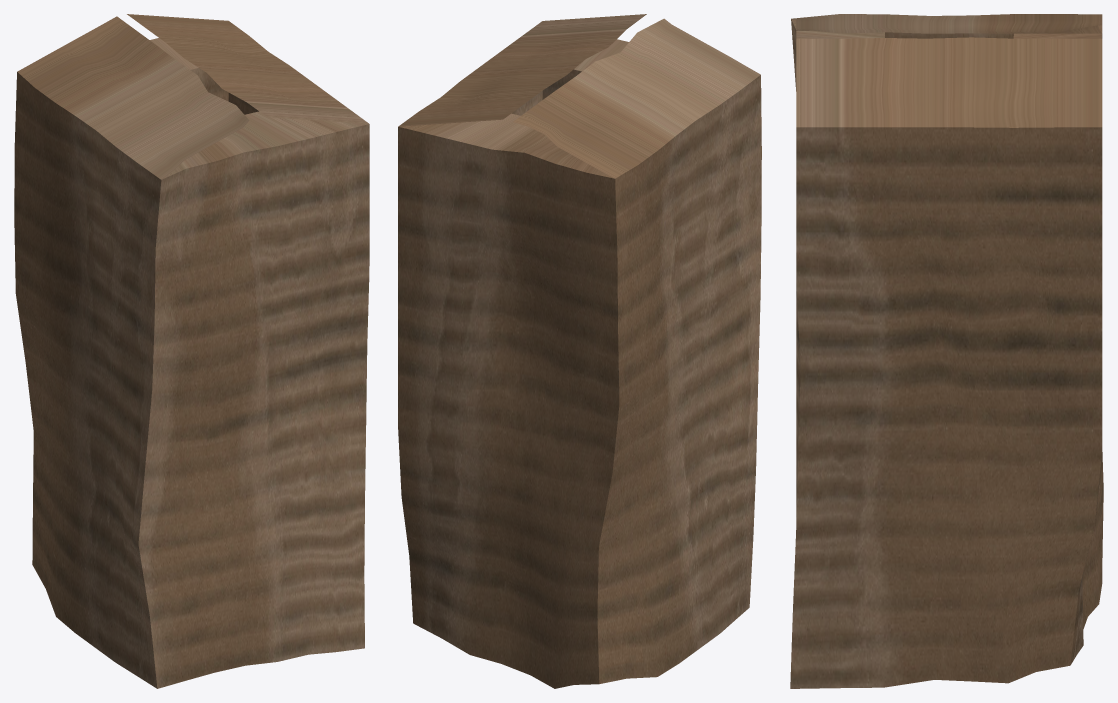
The model's file is kadus.fbx_model.fbx.
3 renders of one model, left to right at view 1: azimuth 30°, elevation 25°; view 2: azimuth 150°, elevation 25°; view 3: azimuth 270°, elevation 25°, orthographic. The views are drawn at different scales.
Visible parts, largest first — view 1: Cube.002; view 2: Cube.002; view 3: Cube.002.
Boxes of the visible parts, x1,y1,x2,y2 form: Cube.002: (14,14,369,688); Cube.002: (398,14,761,688); Cube.002: (790,14,1103,688).
Bounding box in the file's own units: 31.44 × 75.57 × 35.76.
